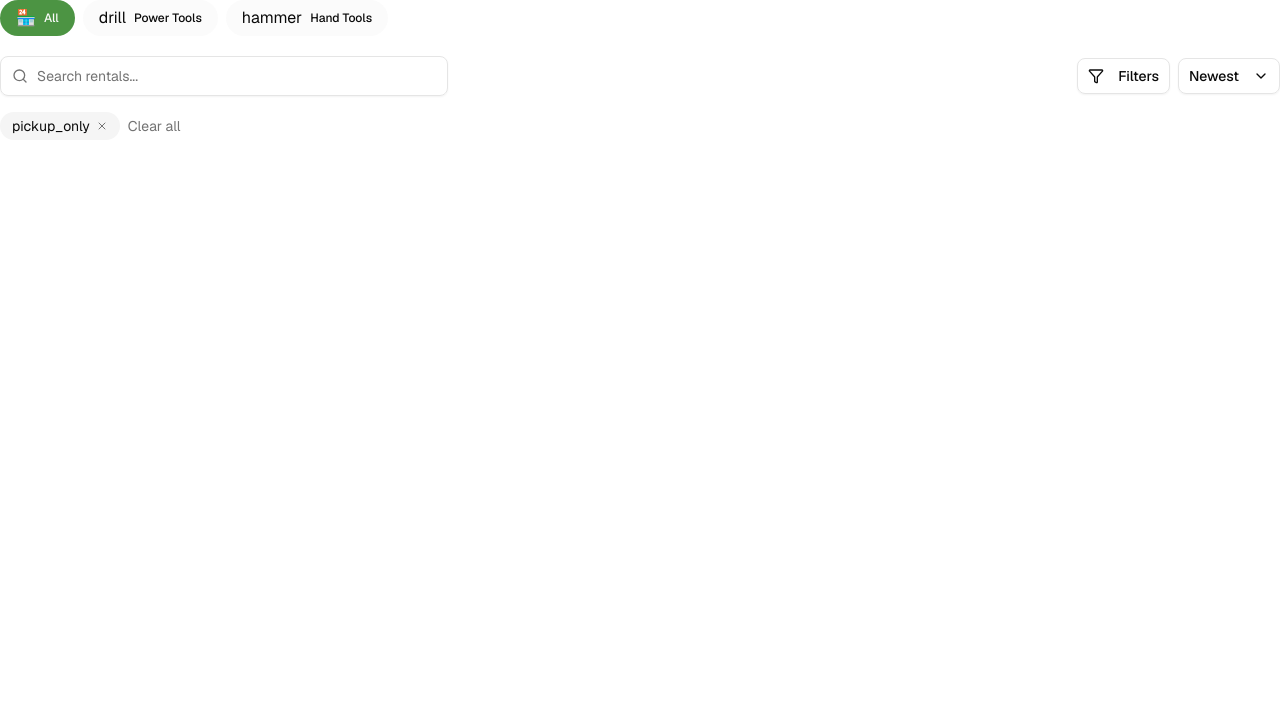
Scenario: ExplorePageFilters › Filters Sheet › should open filters sheet when filters button is clicked
Click the button "Filters".
click(1124, 76)  # box 1077,58 -> 1170,94
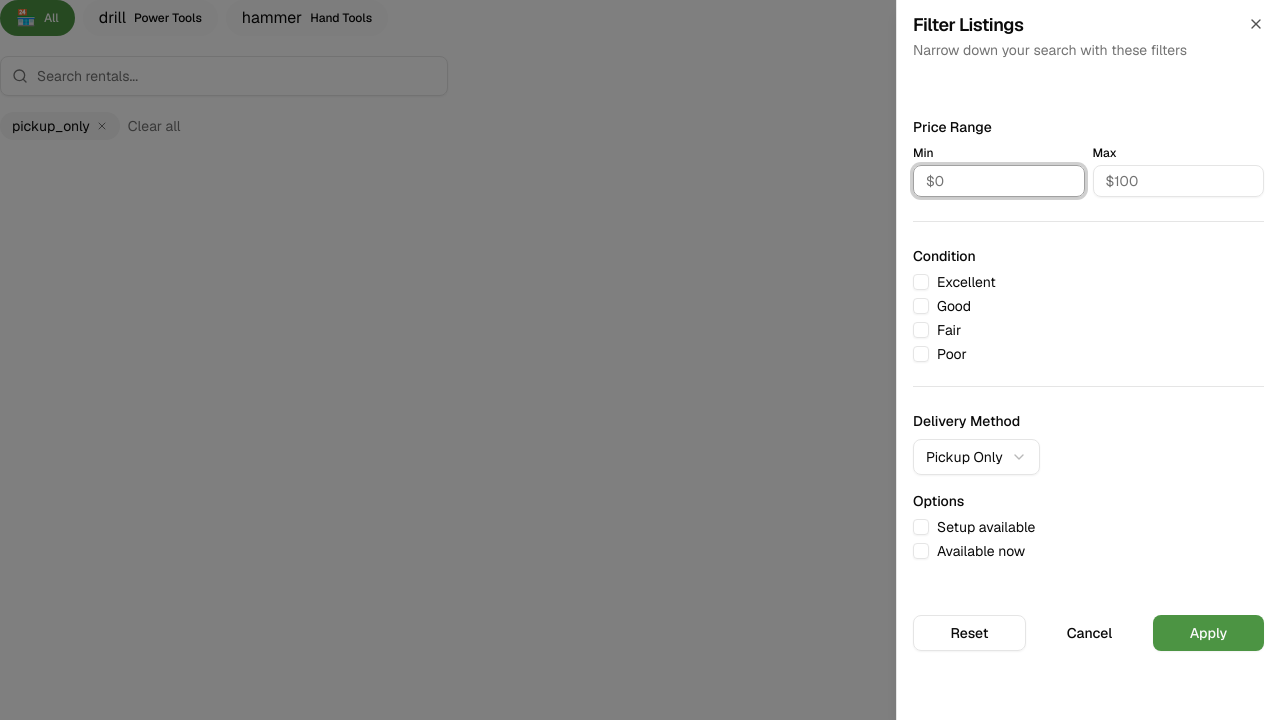
Expected: the heading "Price Range" is shown, 913,118 -> 992,136
Expected: the heading "Condition" is shown, 913,247 -> 976,265
Expected: the text "Delivery Method" is shown, 913,412 -> 1020,430
